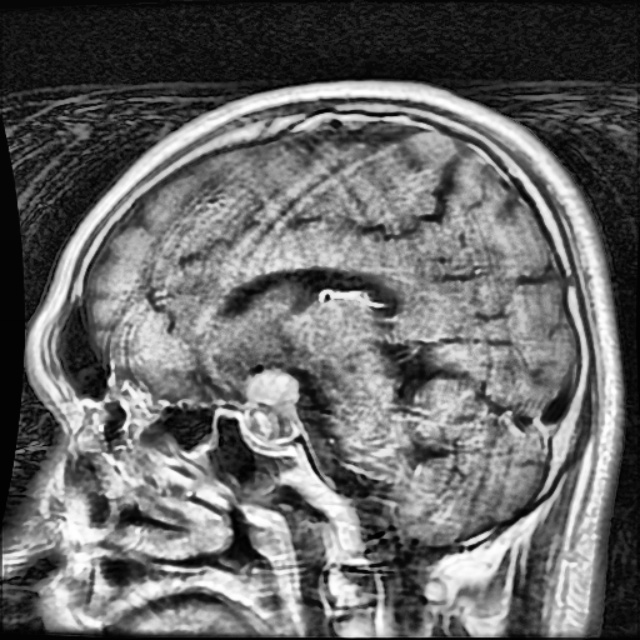Pituitary: (248, 370, 298, 439)
